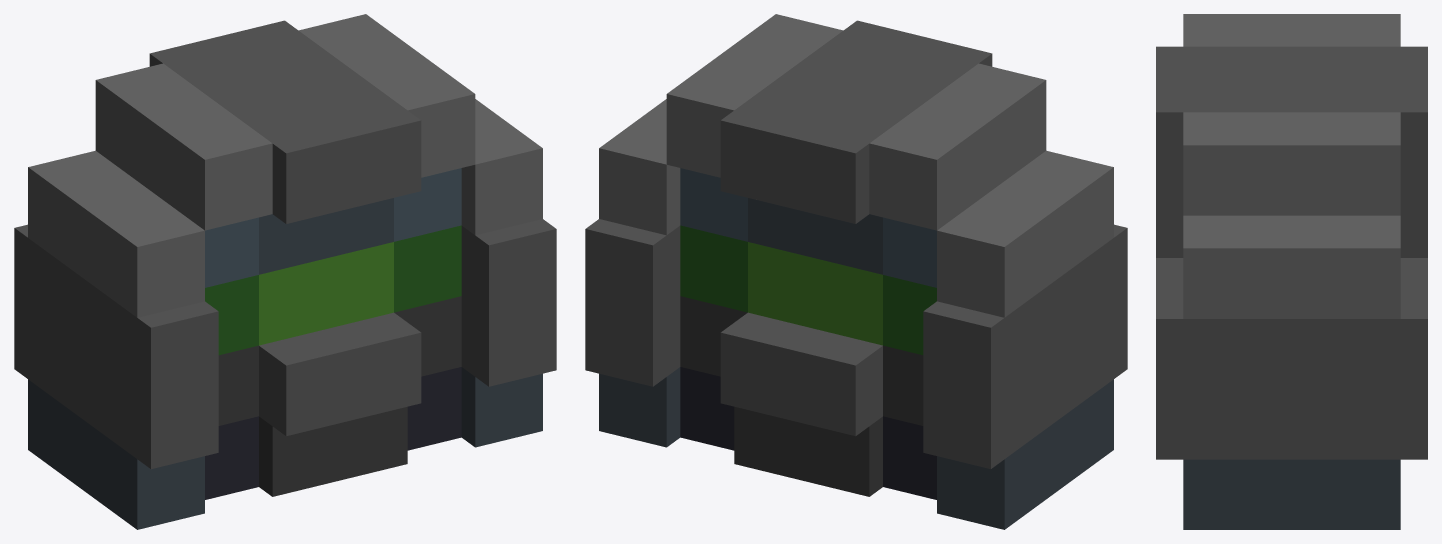
Rendered from Device_M1P_Yeinyd.obj.
The picture shows the model from 3 angles, left to right: view 1: azimuth 30°, elevation 25°; view 2: azimuth 150°, elevation 25°; view 3: azimuth 270°, elevation 25°; orthographic projection.
Size of the model in its own units: 6 by 5 by 3.5.
